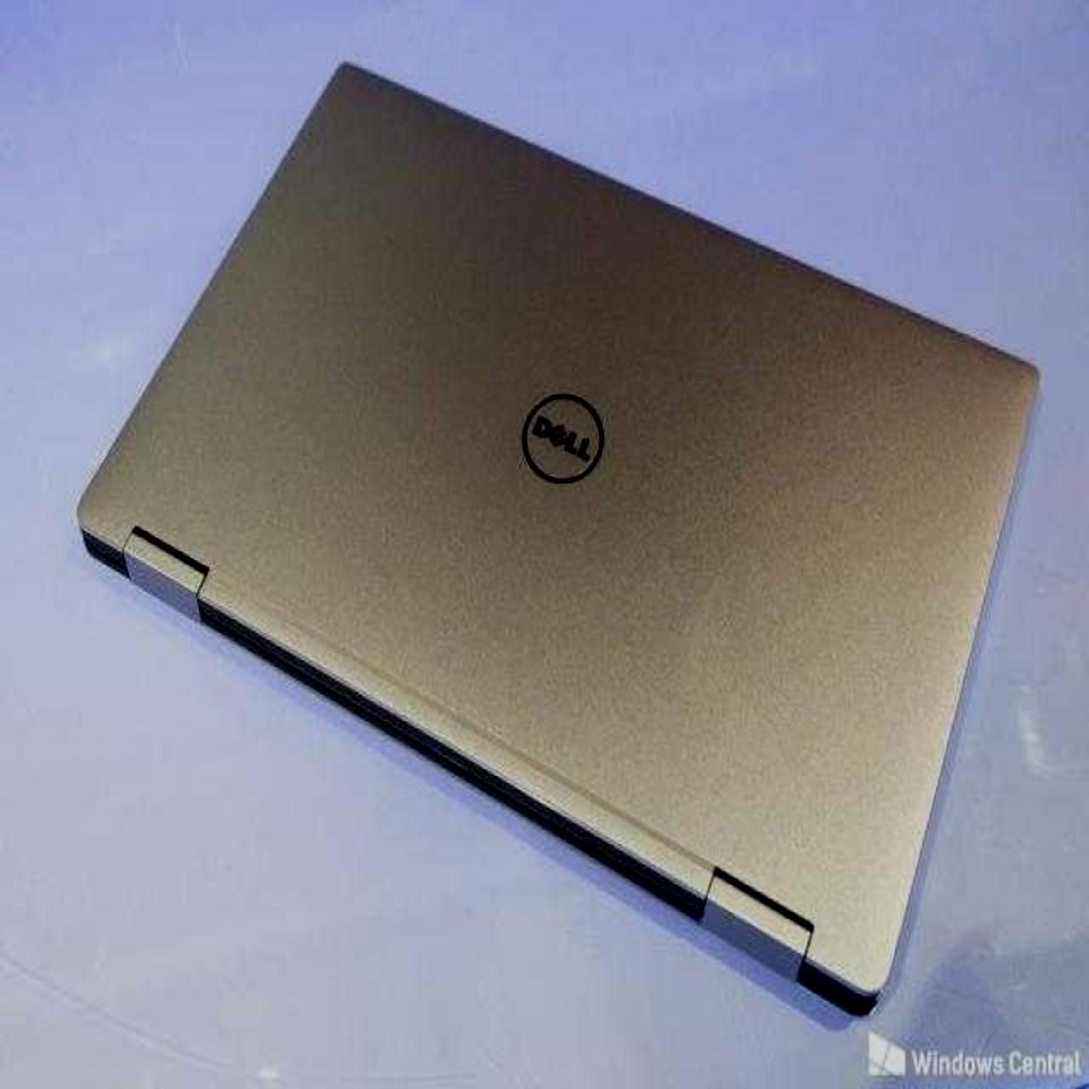laptop: (31, 31, 1052, 1038)
